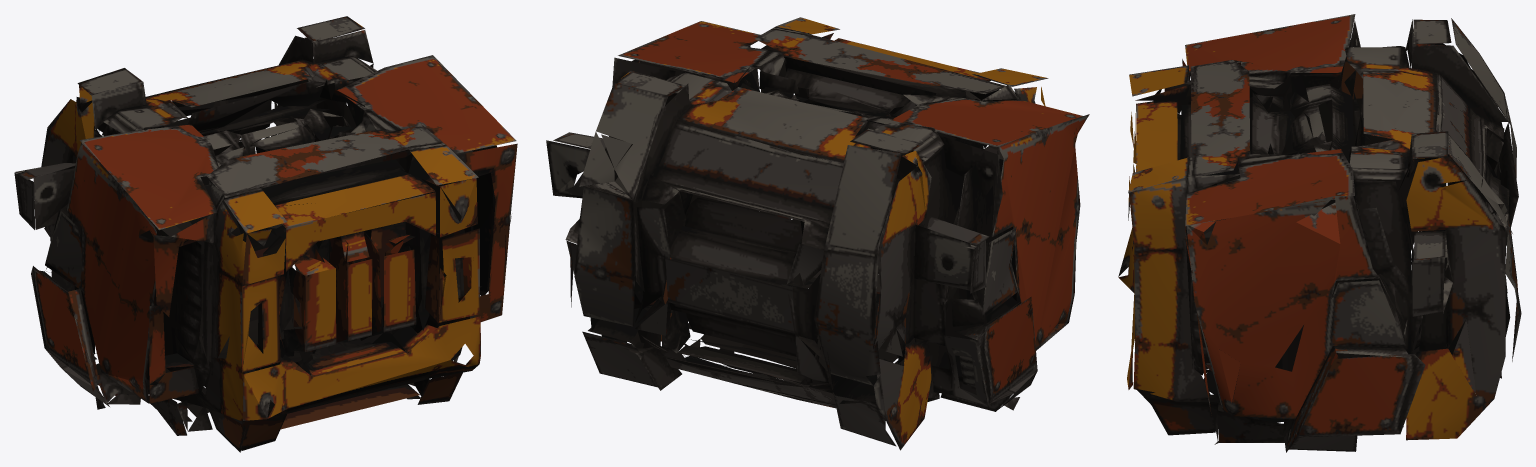
File: co_furnace.glb
The picture shows the model from 3 angles, left to right: view 1: azimuth 30°, elevation 25°; view 2: azimuth 150°, elevation 25°; view 3: azimuth 270°, elevation 25°; orthographic projection. The views are drawn at different scales.
Visible parts, largest first — view 1: co_furnace; view 2: co_furnace; view 3: co_furnace.
Part boxes in pixels (left/top/right/bottom): co_furnace: left=14, top=16, right=517, bottom=452; co_furnace: left=546, top=17, right=1089, bottom=450; co_furnace: left=1118, top=14, right=1521, bottom=452.
Size of the model in its own units: 0.15 by 0.1024 by 0.1249.
1 material, 1 textured.
